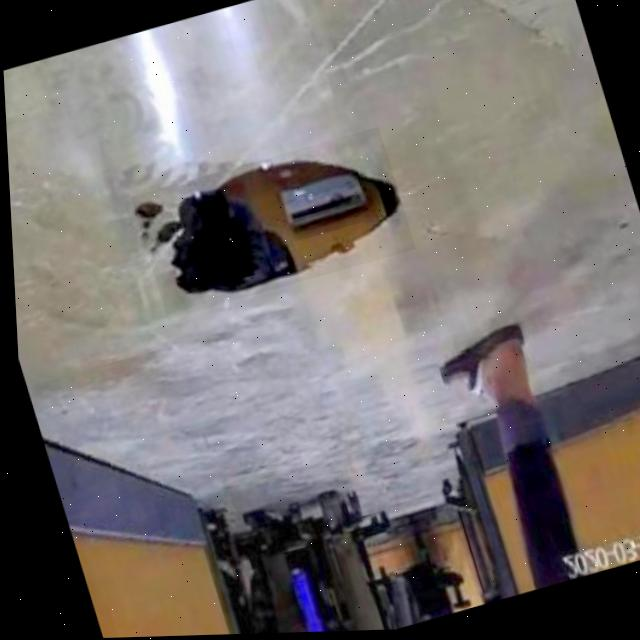spillage: (133, 167, 396, 308)
